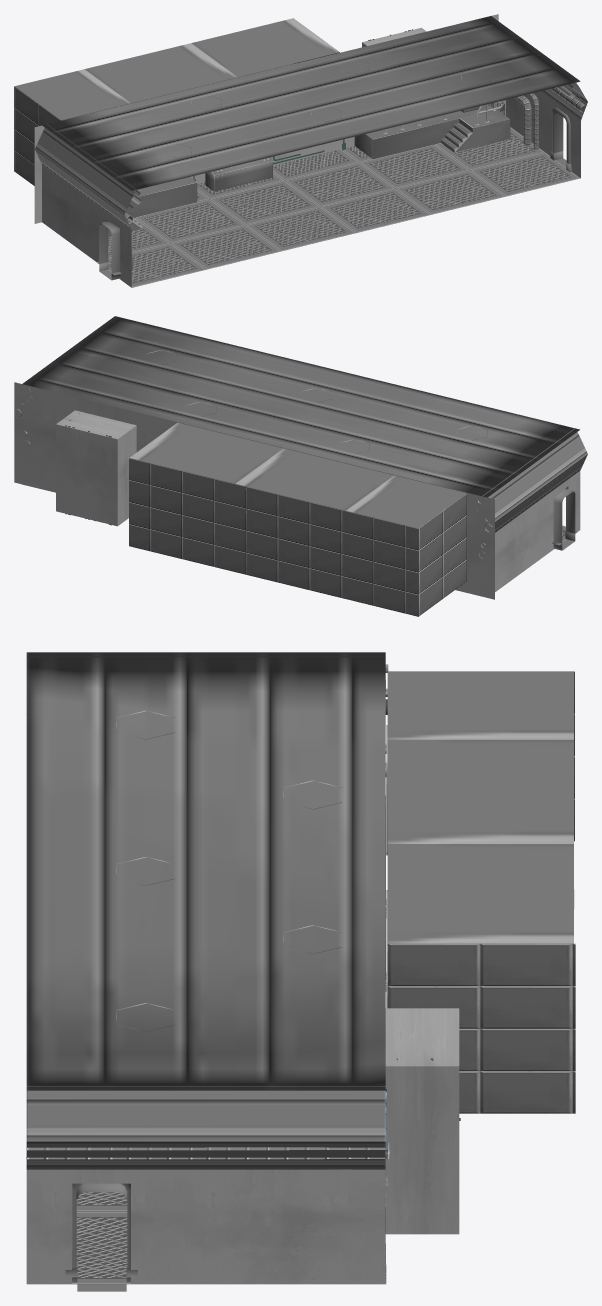
File: MSH_Power_Plant_room_L1_R3_optimized.fbx
3 renders of one model, top to bottom at view 1: azimuth 30°, elevation 25°; view 2: azimuth 150°, elevation 25°; view 3: azimuth 270°, elevation 25°, orthographic. The views are drawn at different scales.
Visible parts, largest first — view 1: lightmap0, lightmap1, lightmap-1; view 2: lightmap0, lightmap-1; view 3: lightmap0, lightmap1, lightmap-1.
Part boxes in pixels (x1,y1,x2,y2): lightmap0: [14, 14, 587, 287]; lightmap1: [62, 65, 585, 269]; lightmap-1: [99, 112, 566, 280]; lightmap0: [14, 316, 587, 616]; lightmap-1: [553, 489, 575, 550]; lightmap0: [26, 652, 575, 1284]; lightmap1: [26, 664, 433, 1231]; lightmap-1: [76, 1183, 127, 1291].
Size of the model in its own units: 30.91 by 6.24 by 15.84.
Materials: 5 (4 with a texture image).
